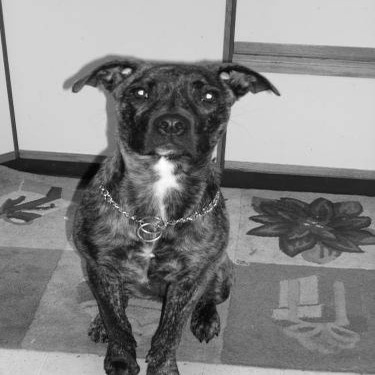dog: (57, 53, 283, 373)
